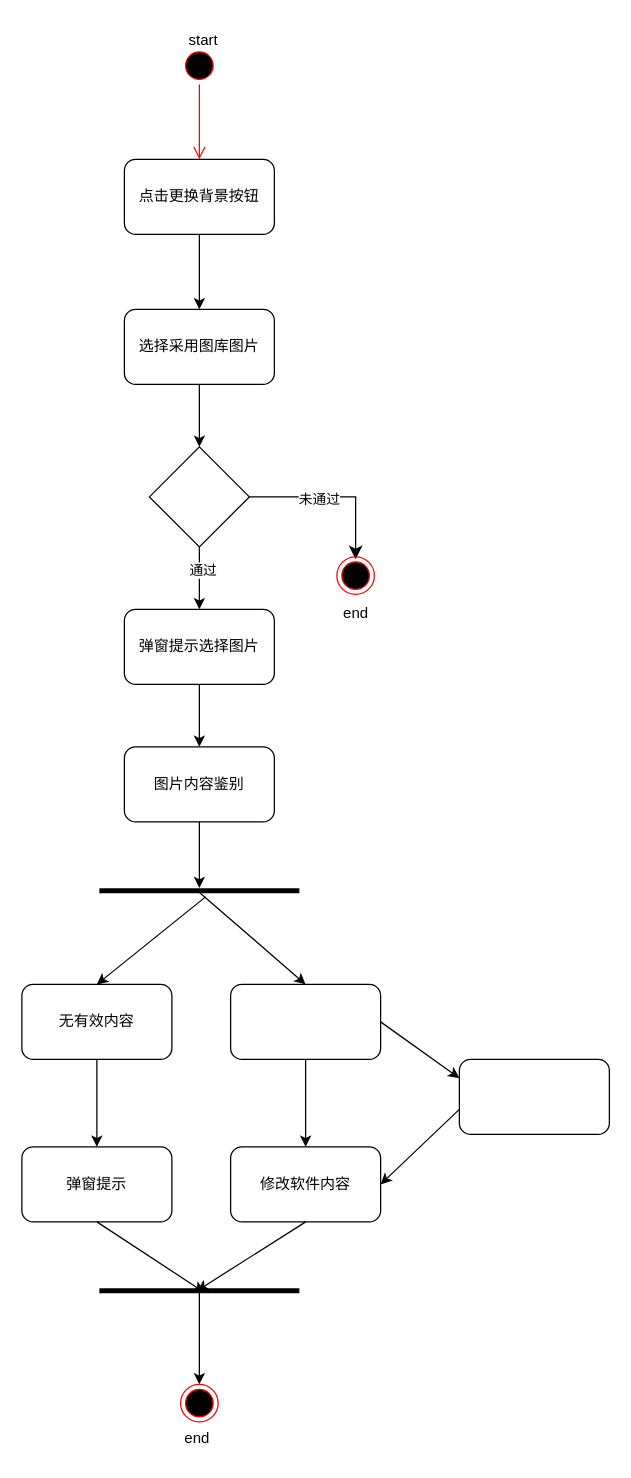
Some shapes in this 631 by 1478 pixel diagram are drawn without their labels. The shapes that lost their labels are listed below. From the top down, each one's centre as x and y in pixels, then its label:
At [198,496]: "appid验证".
At [305,1021]: "识别到有效内容".
At [533,1096]: "更新数据库对应信息".
